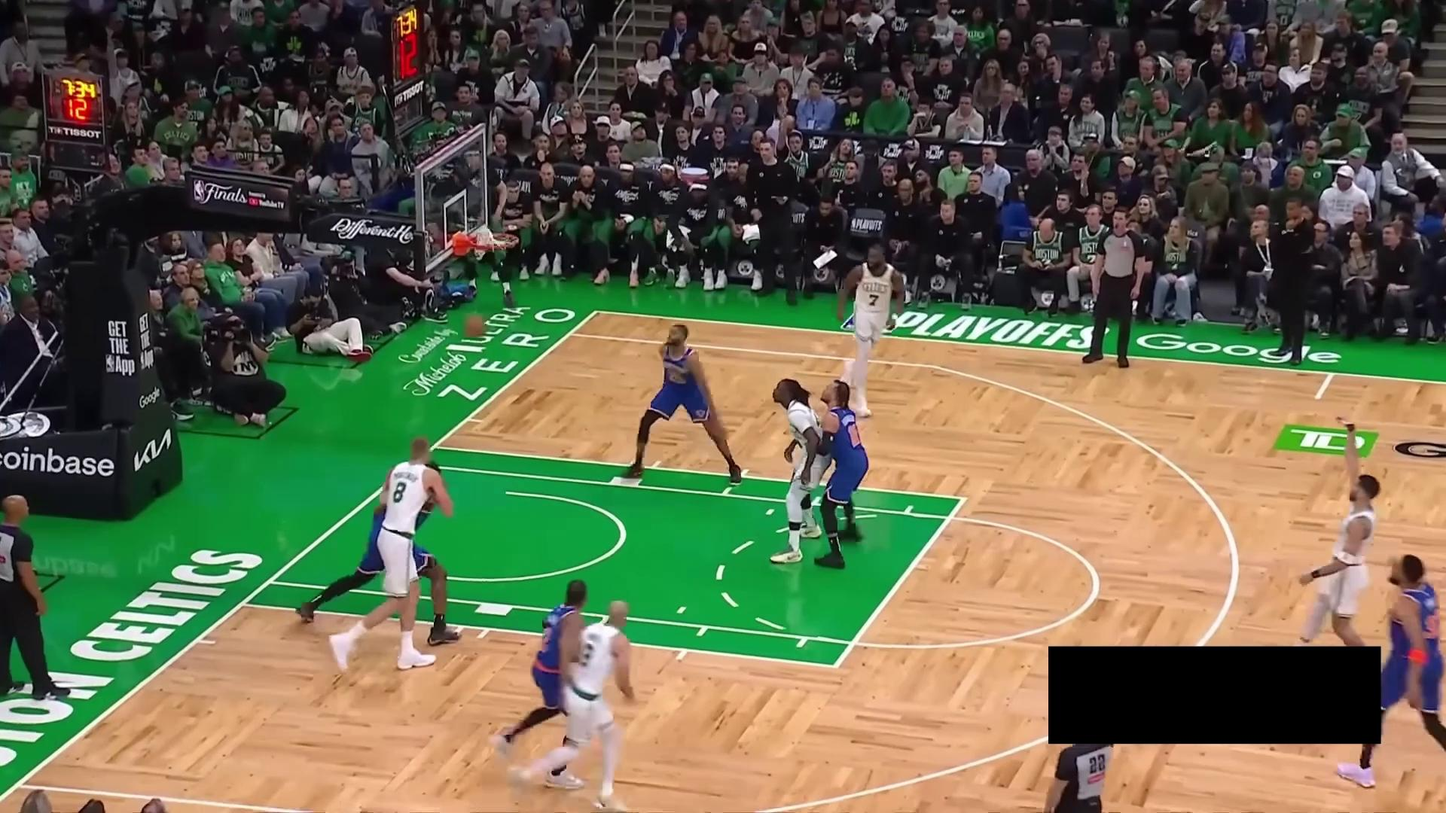ball: (463, 314, 487, 338)
number: (846, 422, 860, 448), (393, 481, 407, 503), (867, 292, 880, 308)
player: (295, 461, 463, 647), (329, 436, 454, 672), (511, 599, 636, 813), (1335, 552, 1444, 791), (492, 578, 589, 791), (1293, 416, 1381, 646), (621, 323, 743, 487), (834, 242, 907, 422), (767, 377, 828, 568), (809, 377, 868, 570)
referee: (0, 494, 72, 701), (1081, 206, 1149, 370), (1042, 743, 1117, 813)
rim: (468, 231, 520, 249)
